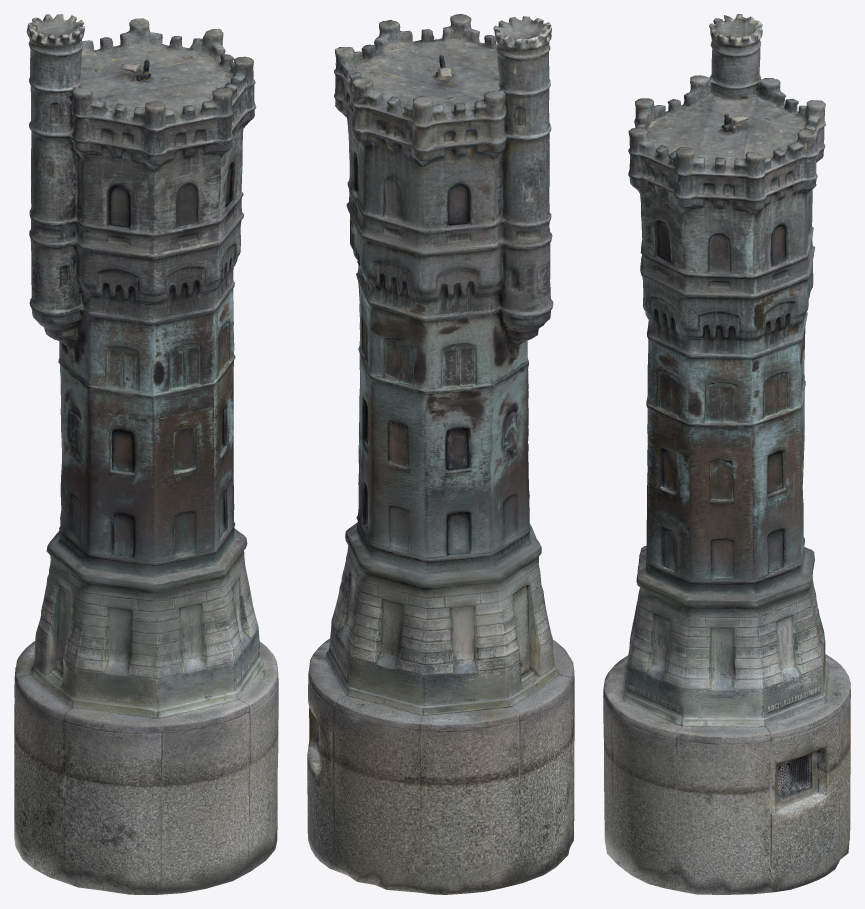
3 views of the same model, side by side, from view 1: azimuth 30°, elevation 25°; view 2: azimuth 150°, elevation 25°; view 3: azimuth 270°, elevation 25° (orthographic). The views are drawn at different scales.
Parts seen in each view (by area): view 1: low poly meta; view 2: low poly meta; view 3: low poly meta.
Boxes of the visible parts, bbox=[...] form: low poly meta: bbox=[14, 14, 278, 894]; low poly meta: bbox=[307, 14, 574, 894]; low poly meta: bbox=[603, 14, 850, 894].
Bounding box in the file's own units: 242 × 840 × 242.
1 material, 1 textured.
